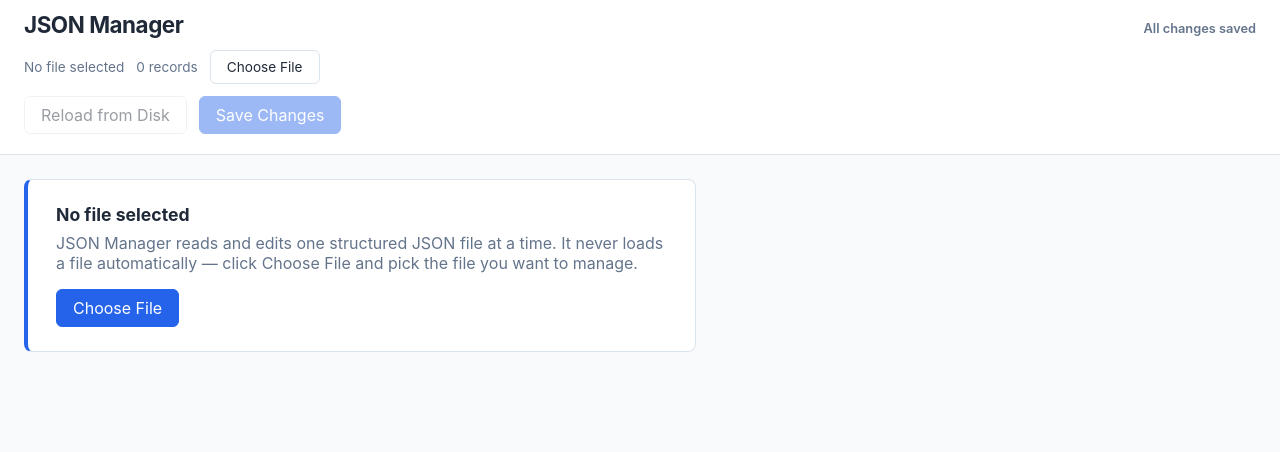
Test: App › shows a clear error for an invalid JSON file
Click the button "Choose File" next to "records".
click(265, 67)  # box [210,50,320,84]
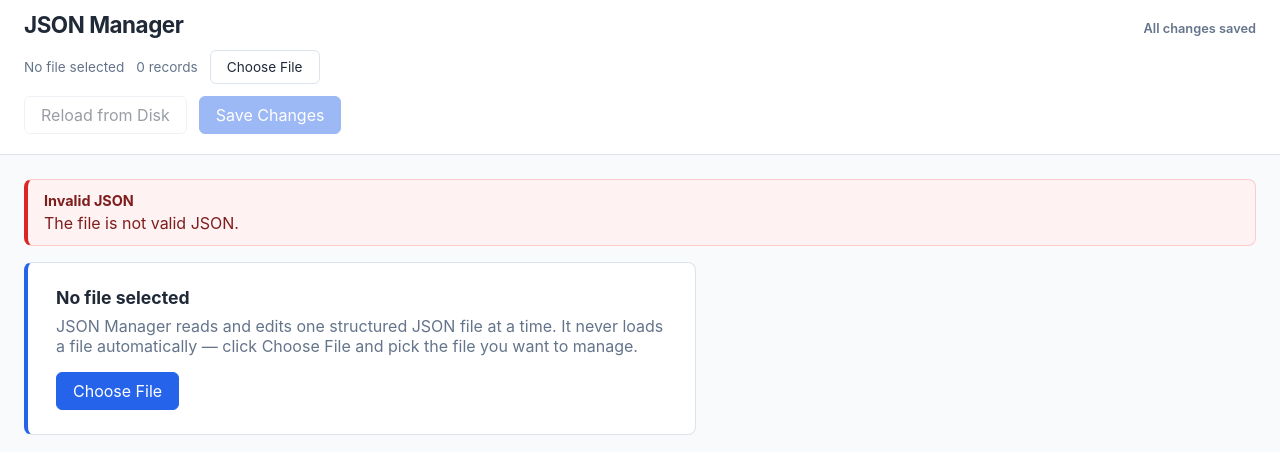
Expected: the heading "No file selected" is shown, [56,287,190,308]
Now the message "Invalid JSON The file is not valid JSON." is shown, box [24,179,1256,246]
